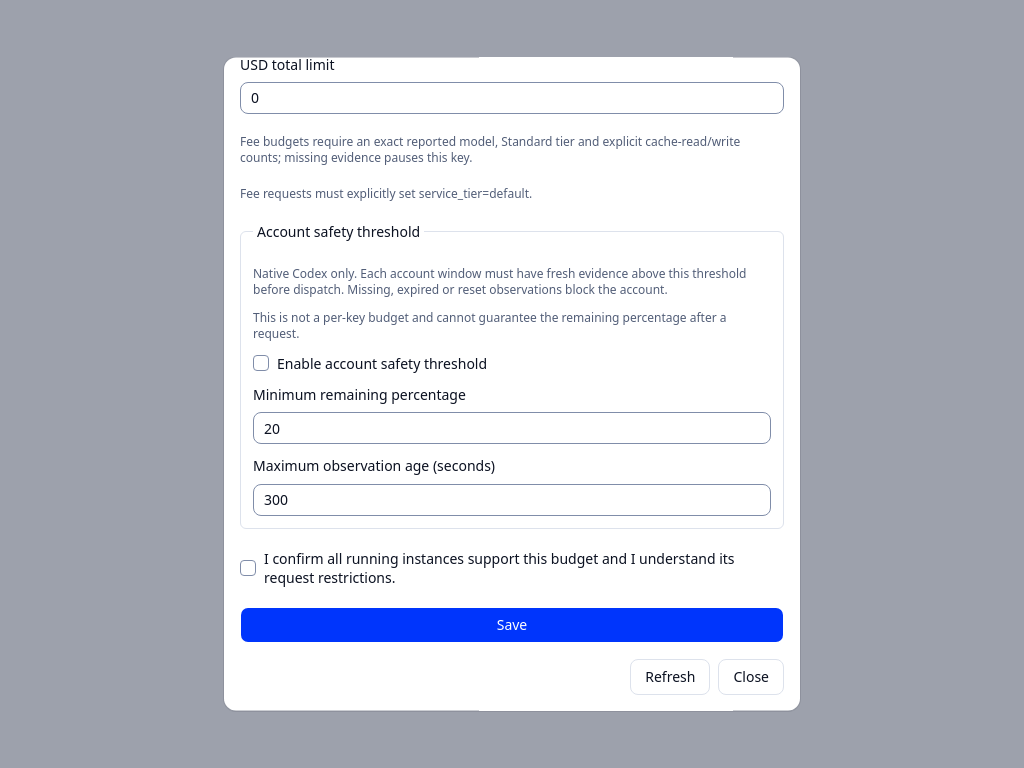
it: a pending old-SID write cannot update the replacement cache
(page scrolled)
Click the 2nd checkbox named "I confirm all running instances support this budget and I understand its request restrictions.".
click(248, 567)  # box left=240, top=559, right=256, bottom=575
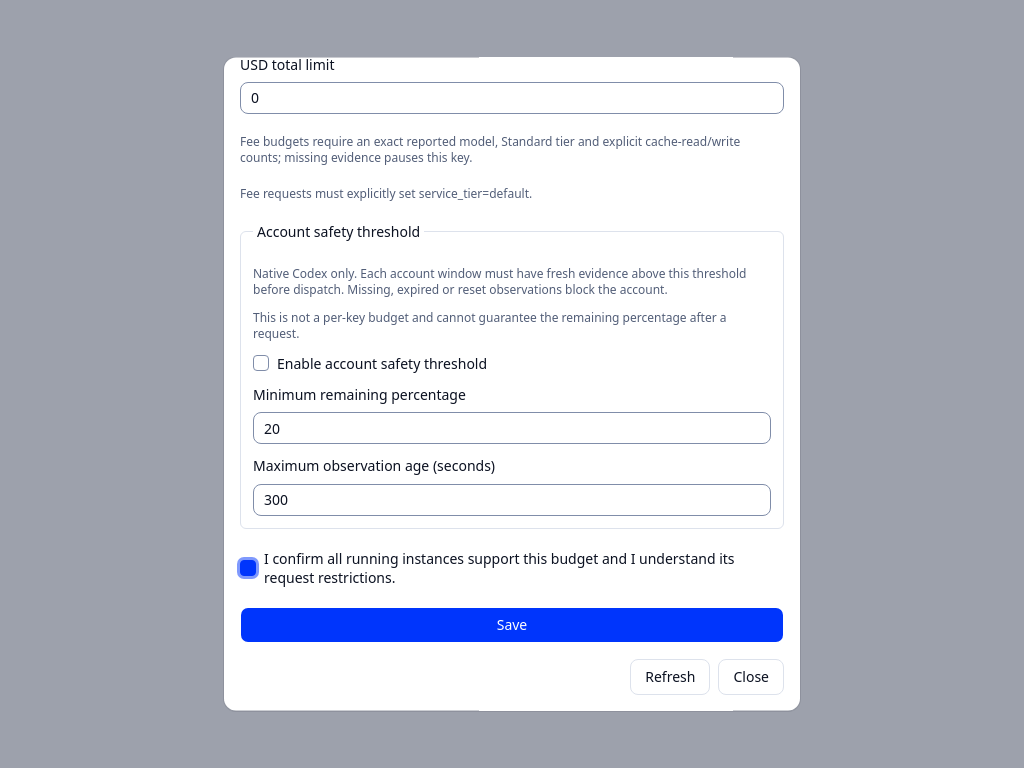
Click the button "Save".
click(512, 625)  # box left=240, top=607, right=784, bottom=643
(page scrolled)
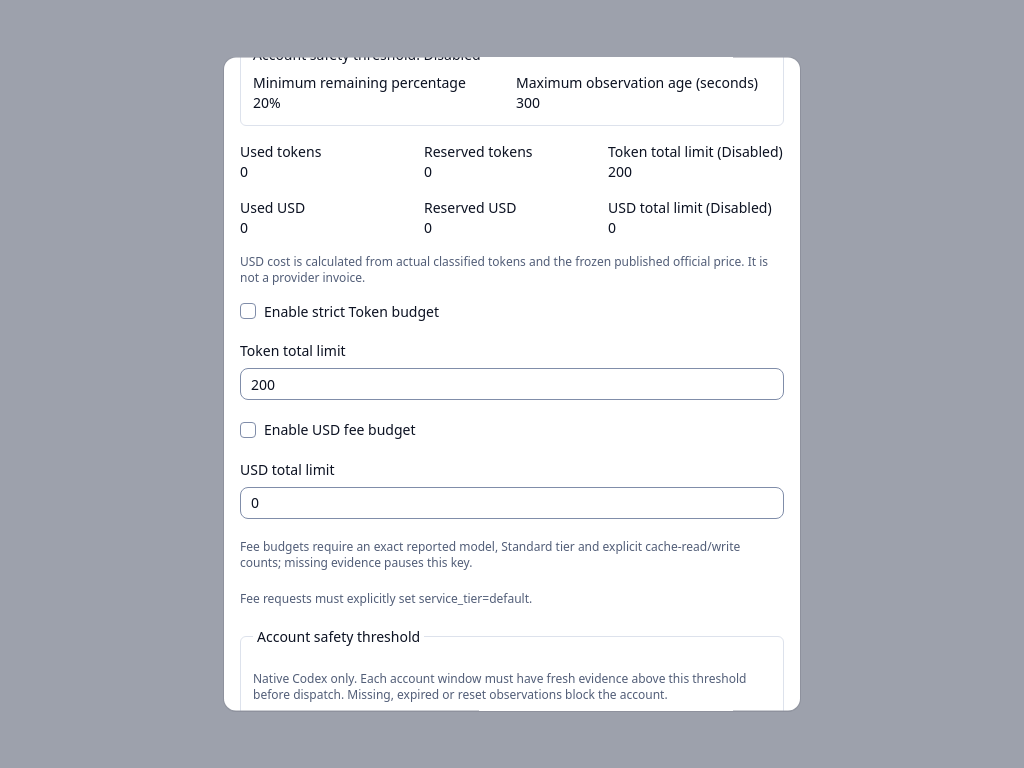
Check: the field showing "200" is shown, box left=240, top=368, right=784, bottom=400
